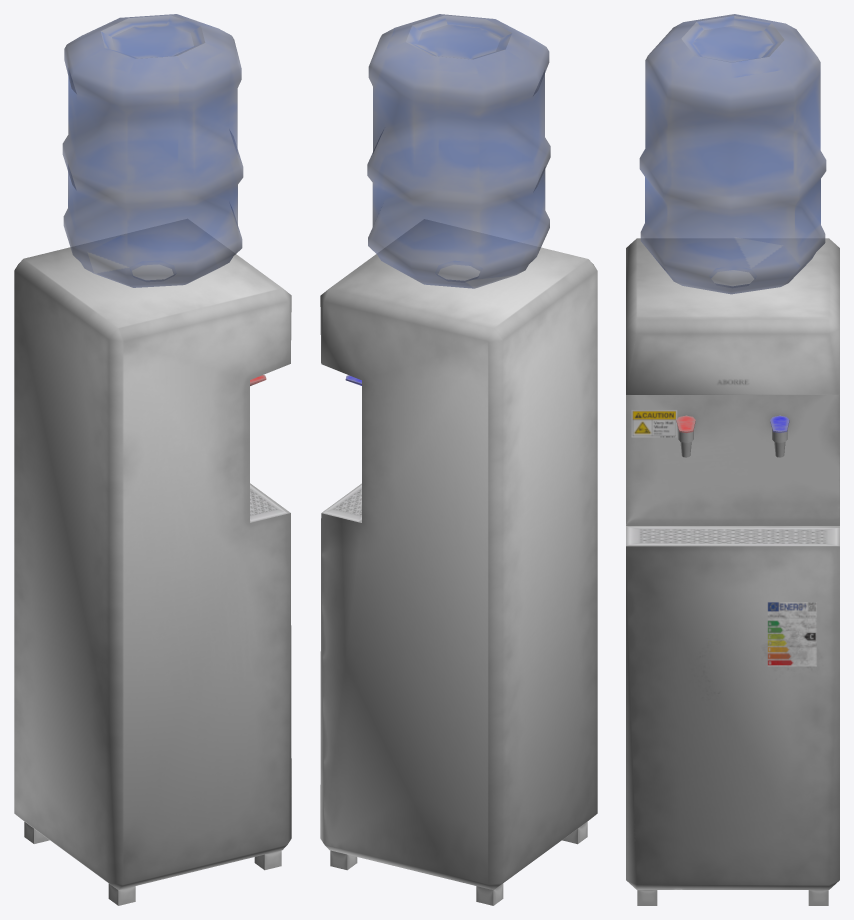
The model's file is water_dispenser.glb.
3 renders of one model, left to right at view 1: azimuth 30°, elevation 25°; view 2: azimuth 150°, elevation 25°; view 3: azimuth 270°, elevation 25°, orthographic.
Parts seen in each view (by area): view 1: Cube; view 2: Cube; view 3: Cube.
Boxes of the visible parts, x1,y1,x2,y2 form: Cube: [14, 14, 291, 905]; Cube: [320, 14, 597, 905]; Cube: [626, 14, 839, 905].
Bounding box in the file's own units: 1.33 × 5.65 × 1.33.
1 material, 1 textured.
